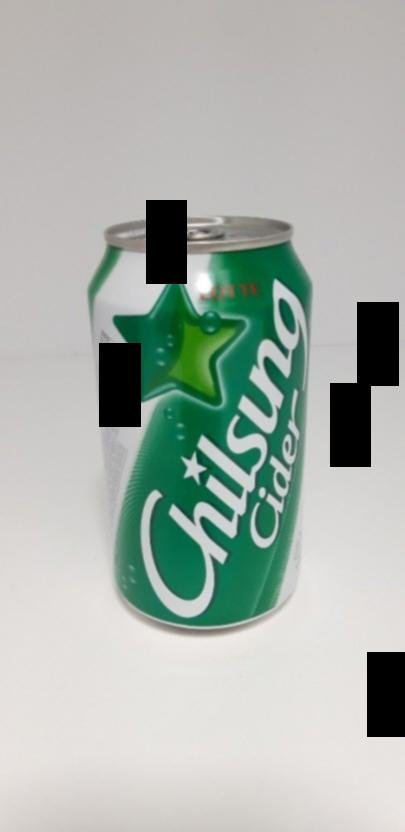chilsungcider: (87, 216, 305, 640)
